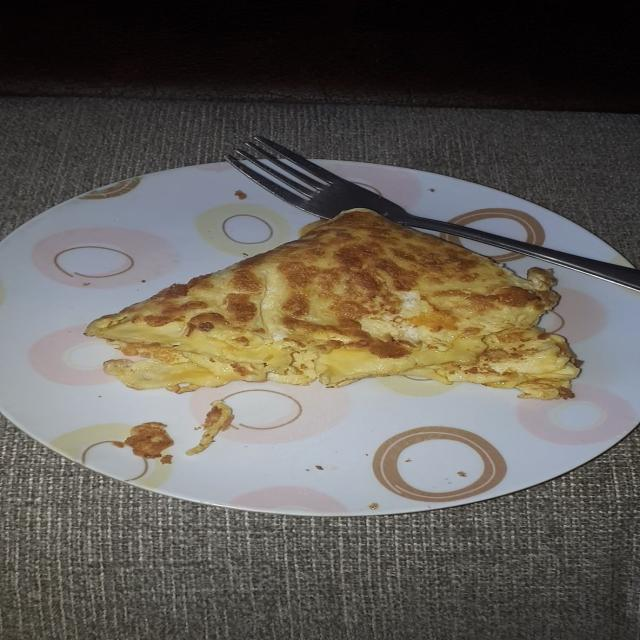omelette: (87, 210, 578, 399)
